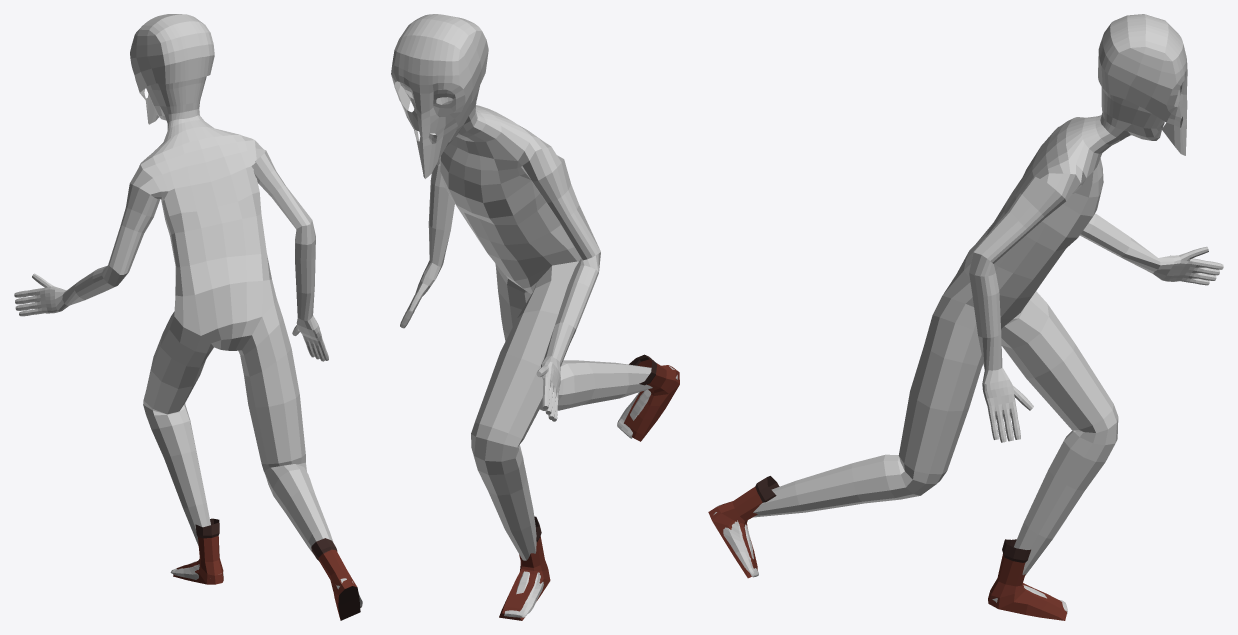
File: saltoadelante_000095.obj
3 views of the same model, side by side, from view 1: azimuth 30°, elevation 25°; view 2: azimuth 150°, elevation 25°; view 3: azimuth 270°, elevation 25° (orthographic). The views are drawn at different scales.
Visible parts, largest first — view 1: Plane.002_Plane.001, Plane.003, Plane.004; view 2: Plane.002_Plane.001, Plane.003, Plane.004; view 3: Plane.002_Plane.001, Plane.004, Plane.003.
Boxes of the visible parts, bbox=[...] form: Plane.002_Plane.001: bbox=[14, 14, 362, 607]; Plane.003: bbox=[311, 538, 360, 620]; Plane.004: bbox=[173, 518, 223, 584]; Plane.002_Plane.001: bbox=[391, 14, 677, 617]; Plane.003: bbox=[624, 354, 679, 441]; Plane.004: bbox=[499, 516, 550, 620]; Plane.002_Plane.001: bbox=[713, 14, 1223, 613]; Plane.004: bbox=[988, 539, 1066, 620]; Plane.003: bbox=[708, 476, 779, 578].
Size of the model in its own units: 2.72 by 6.26 by 4.8.
